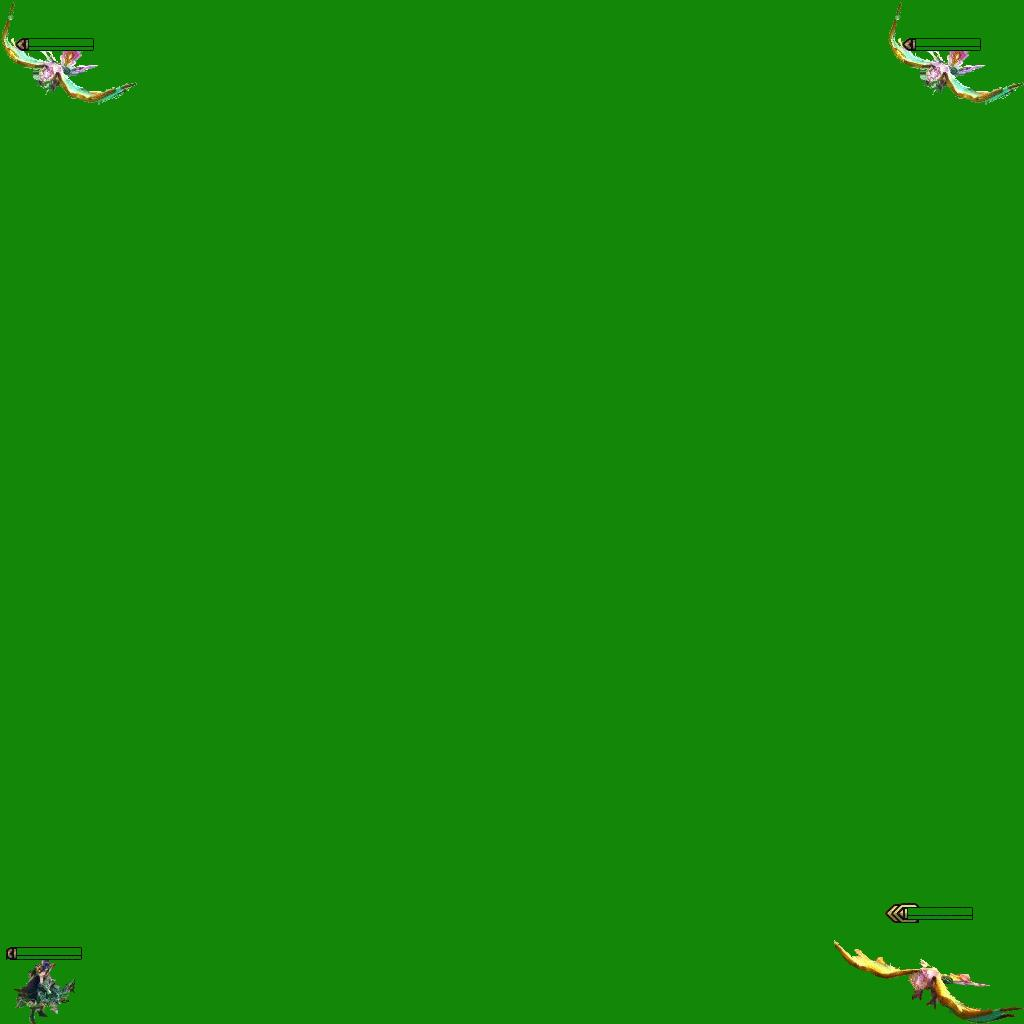anivia-1: (0, 0, 137, 105), (887, 0, 1024, 105)
anivia-3: (817, 901, 1024, 1024)
ashe-1: (0, 944, 82, 1024)
